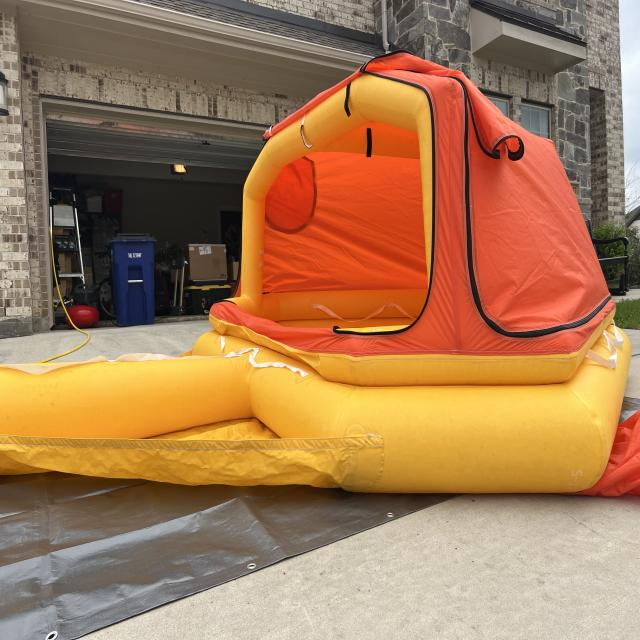Multi-person_life_raft: (0, 50, 640, 500)
